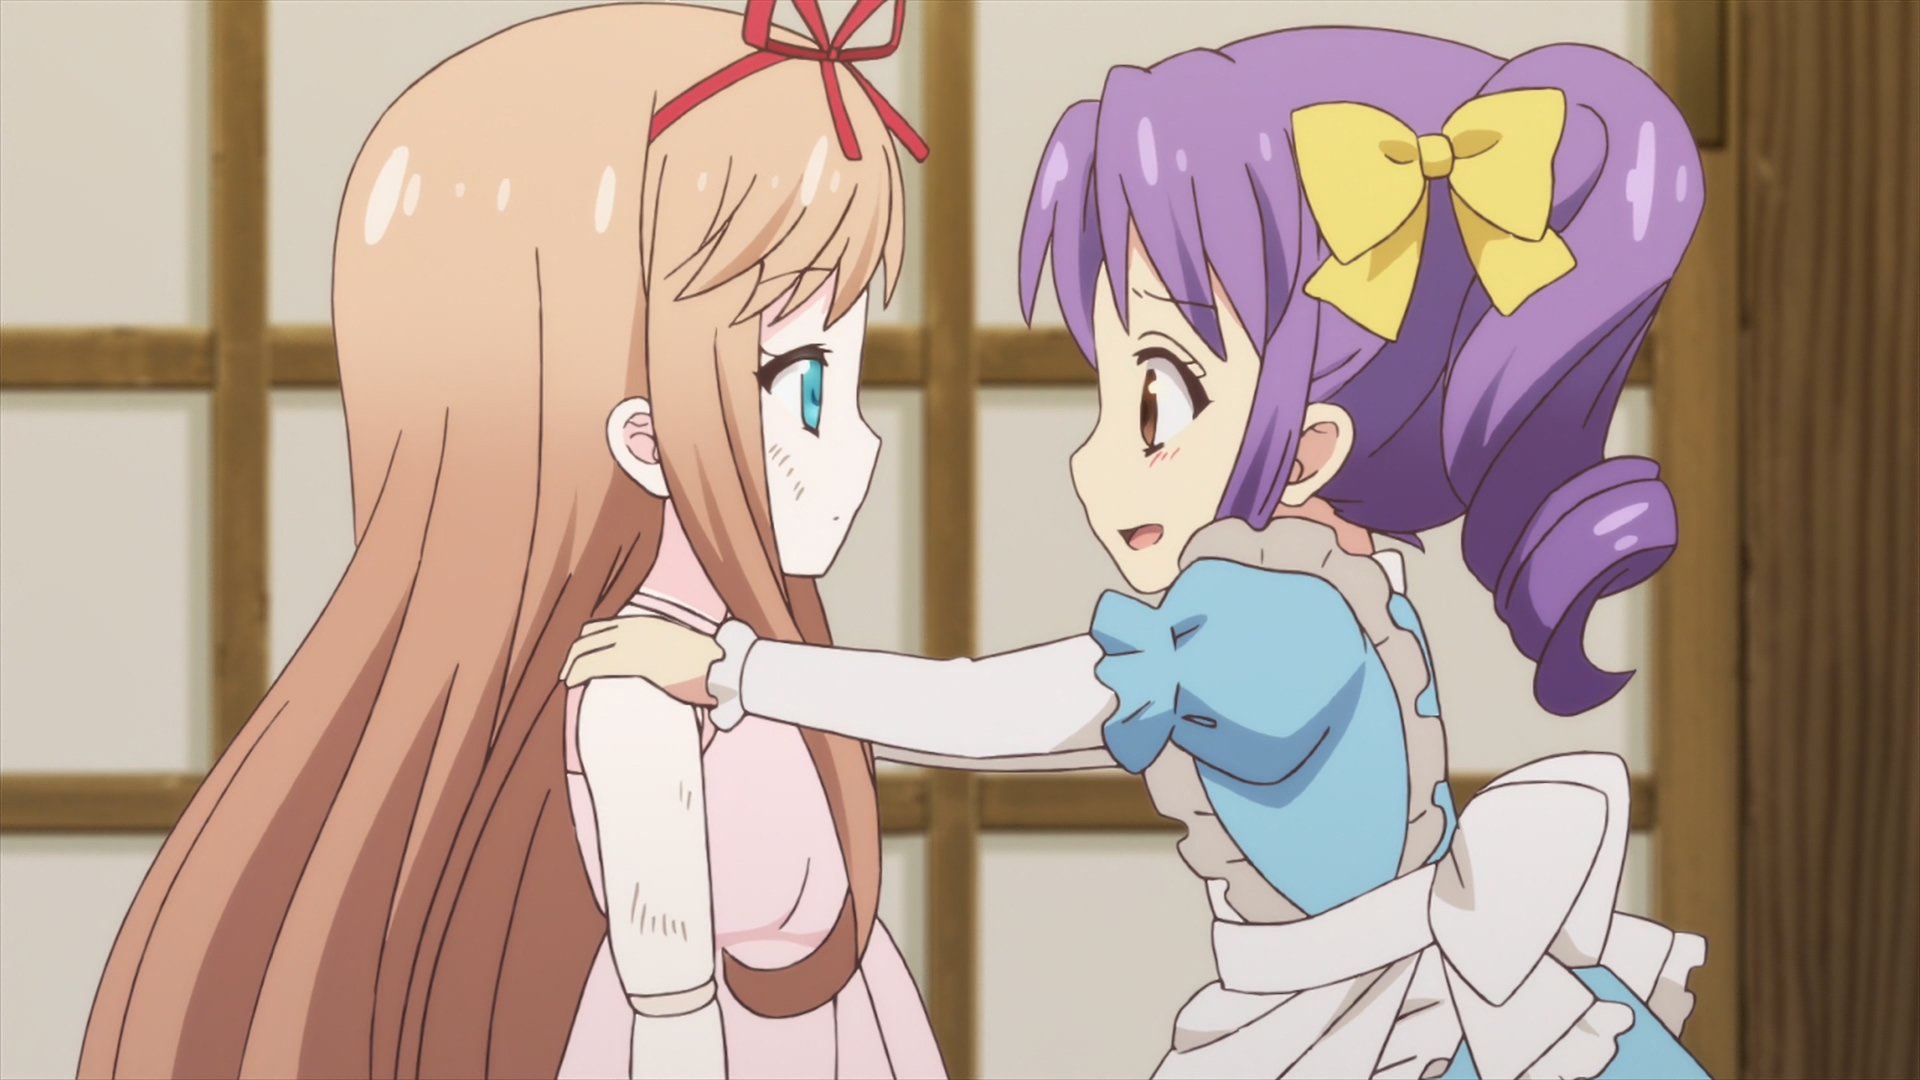其他: (74, 1, 945, 1080)
阿菊: (559, 24, 1716, 1080)
